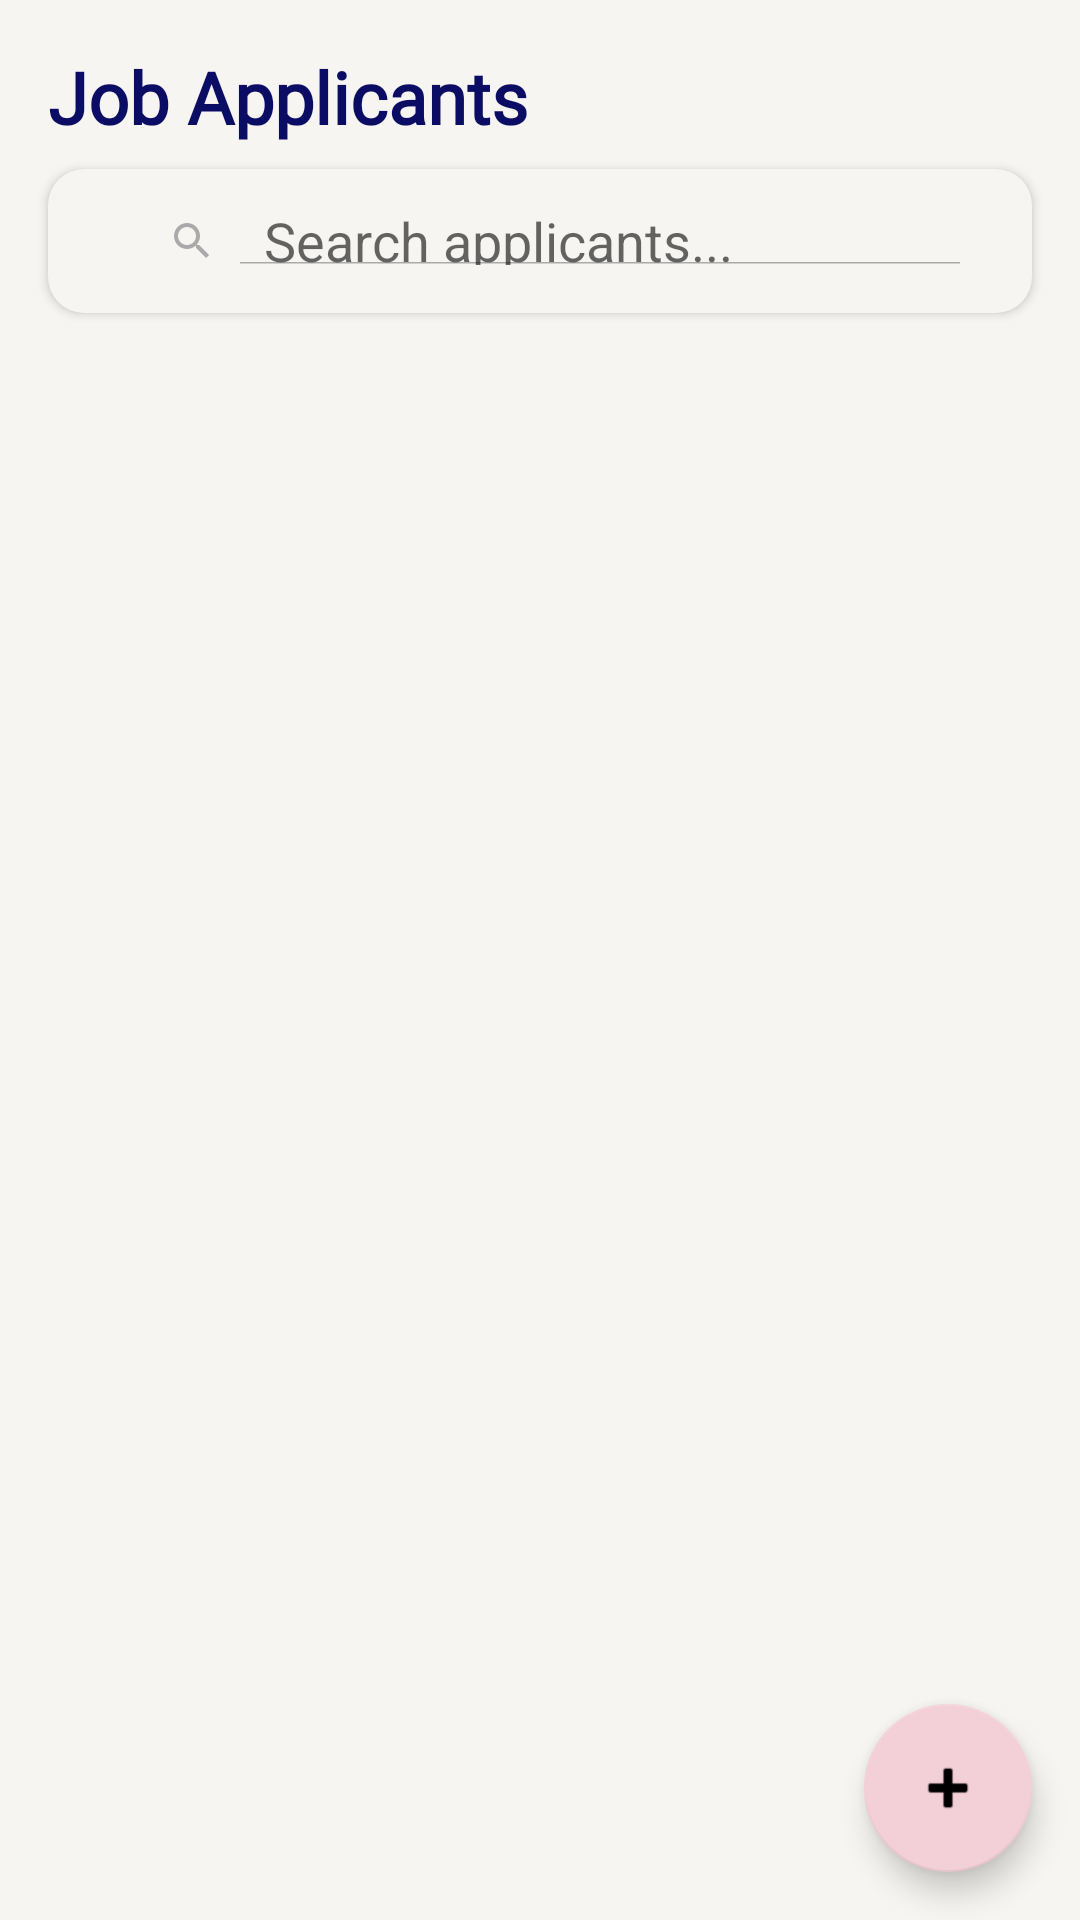

Locate icon controls on the screen. Image size 1080px x 1920px, boxes as (x1, y1, x2, y2).
Add new applicant: (864, 1704, 1032, 1872)
